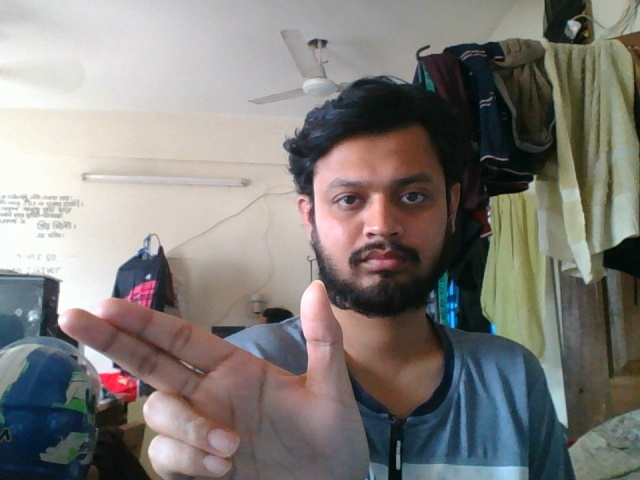jha: (48, 275, 376, 480)
